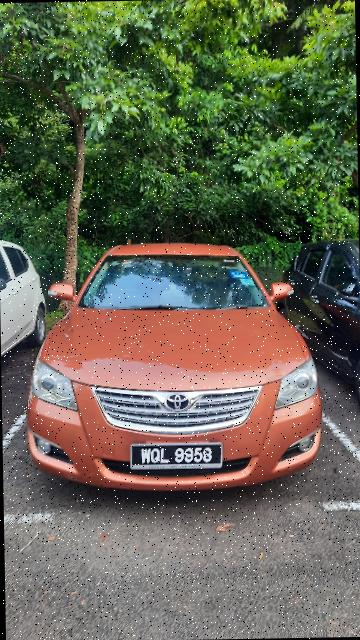License_Plate: (129, 441, 225, 474)
car: (25, 235, 327, 501)
